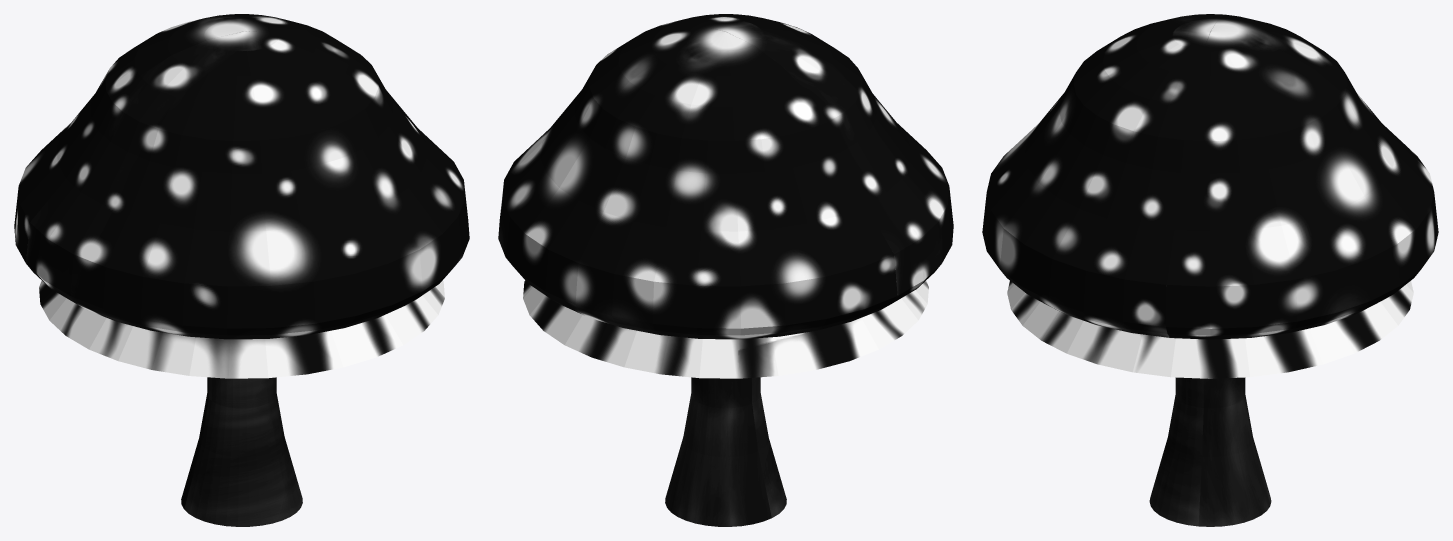
Rendered from cogumelo.fbx.
The picture shows the model from 3 angles, left to right: view 1: azimuth 30°, elevation 25°; view 2: azimuth 150°, elevation 25°; view 3: azimuth 270°, elevation 25°; orthographic projection.
Visible parts, largest first — view 1: Sphere; view 2: Sphere; view 3: Sphere.
Boxes of the visible parts, bbox=[...] form: Sphere: bbox=[14, 14, 469, 526]; Sphere: bbox=[498, 14, 953, 526]; Sphere: bbox=[982, 14, 1438, 526].
Bounding box in the file's own units: 200 × 227 × 200.
Materials: 1 (1 with a texture image).
